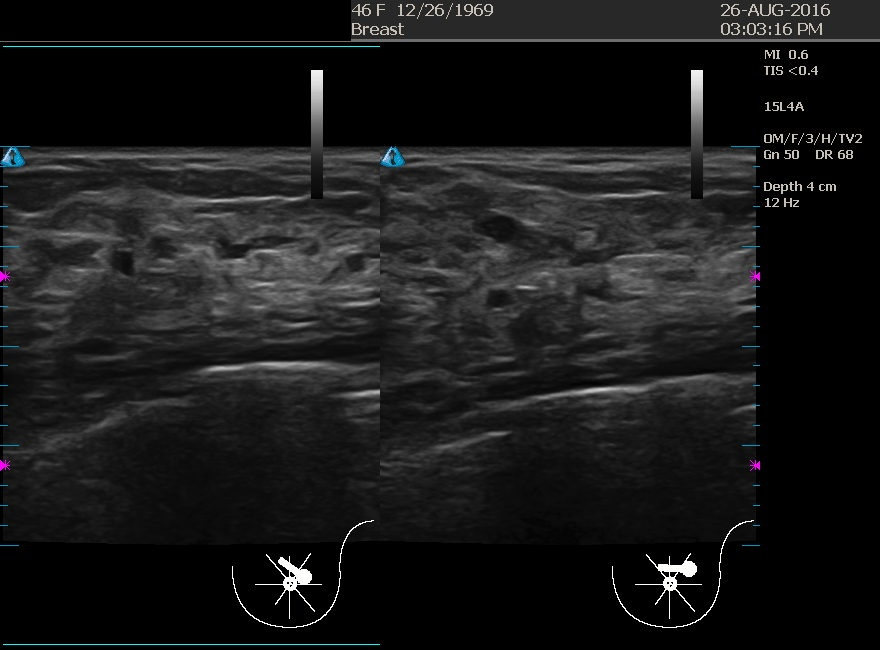BIRADS_2: (44, 173, 244, 373), (413, 188, 613, 388)
